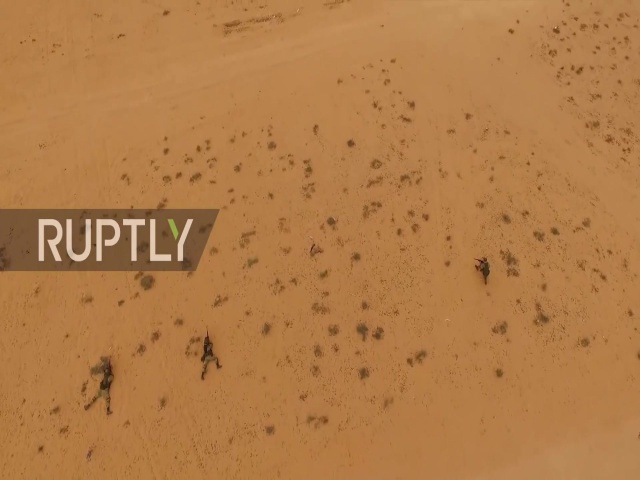person: (84, 360, 118, 415), (193, 327, 224, 382), (473, 255, 492, 285)
